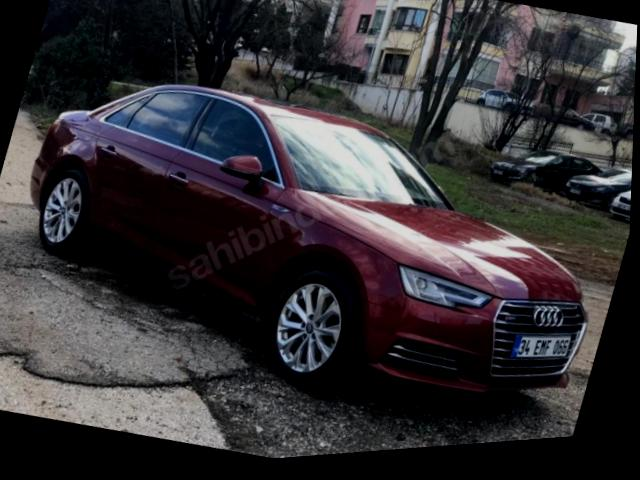plaka: (510, 336, 570, 358)
